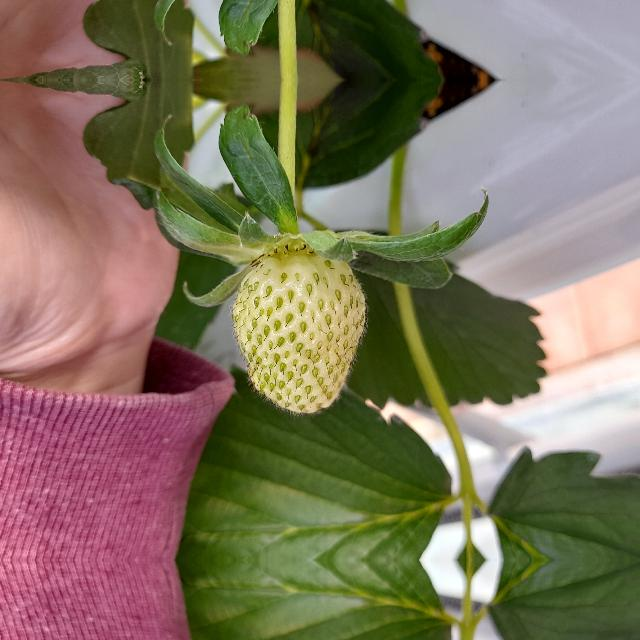Health_25: (231, 250, 365, 414)
